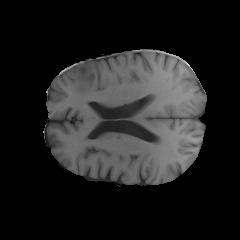glioma: (56, 61, 111, 112)
